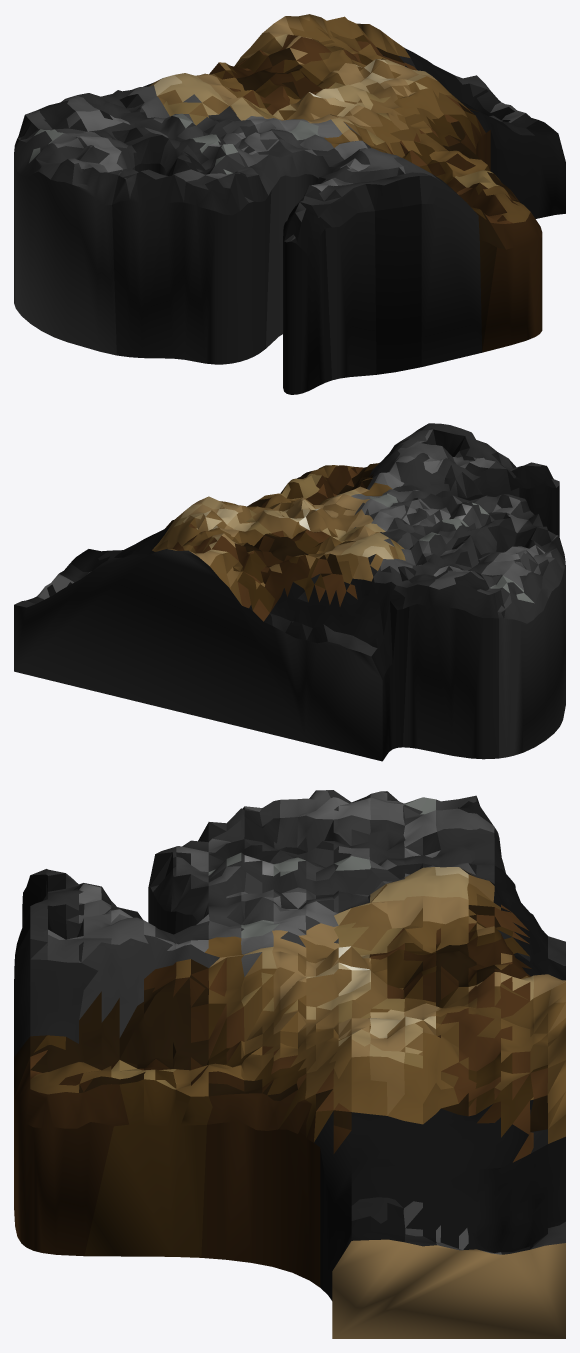
File: tusk_boss_240.glb
The picture shows the model from 3 angles, top to bottom: view 1: azimuth 30°, elevation 25°; view 2: azimuth 150°, elevation 25°; view 3: azimuth 270°, elevation 25°; orthographic projection. The views are drawn at different scales.
Visible parts, largest first — view 1: tusk_boss_240_plates; view 2: tusk_boss_240_plates; view 3: tusk_boss_240_plates.
Part boxes in pixels (x1=…): tusk_boss_240_plates: x1=14, y1=14, x2=565, y2=394; tusk_boss_240_plates: x1=14, y1=423, x2=565, y2=761; tusk_boss_240_plates: x1=14, y1=790, x2=565, y2=1338.
Bounding box in the file's own units: 23.98 × 8.35 × 17.
